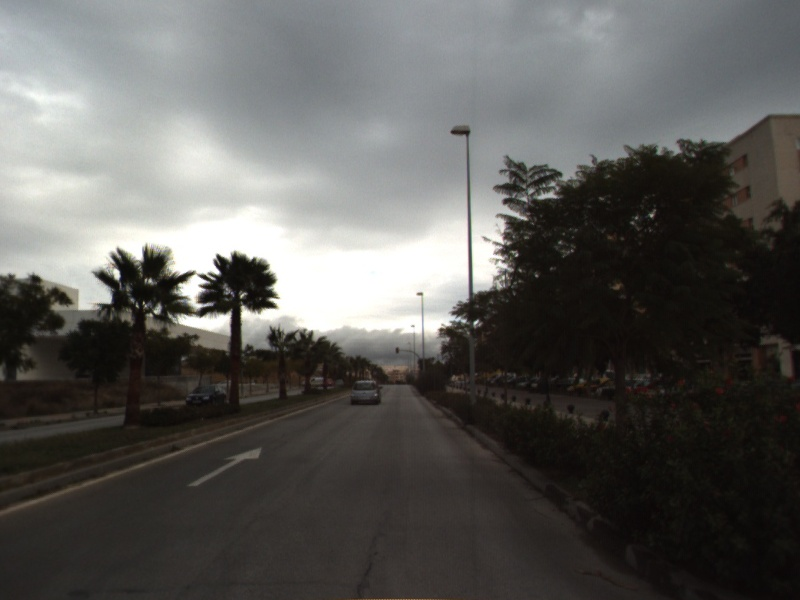STRAIGHT: (186, 445, 263, 488)
